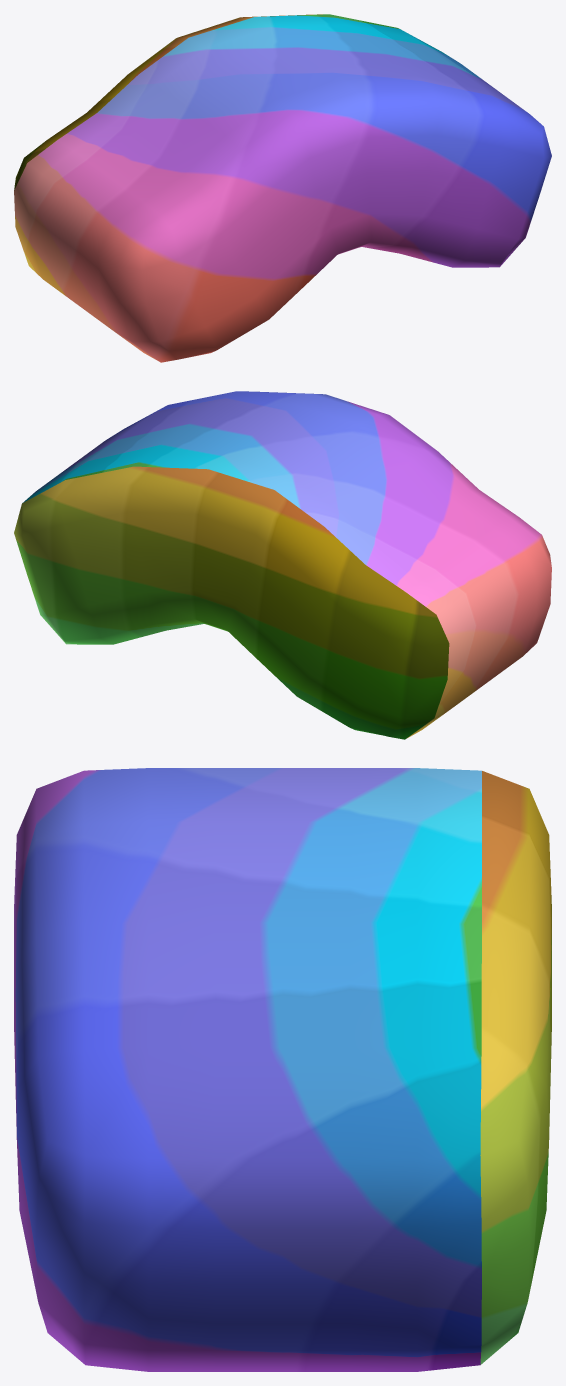
The model's file is Western_Platform_DeformMesh.fbx.
3 views of the same model, one above another, from view 1: azimuth 30°, elevation 25°; view 2: azimuth 150°, elevation 25°; view 3: azimuth 270°, elevation 25° (orthographic). The views are drawn at different scales.
Parts seen in each view (by area): view 1: Cube.001; view 2: Cube.001; view 3: Cube.001.
Part boxes in pixels (box(x1,y1,x2,y2)): Cube.001: box(14, 14, 551, 362); Cube.001: box(14, 391, 551, 739); Cube.001: box(14, 768, 551, 1371).
Size of the model in its own units: 1392 by 690 by 762.
1 material, 1 textured.
